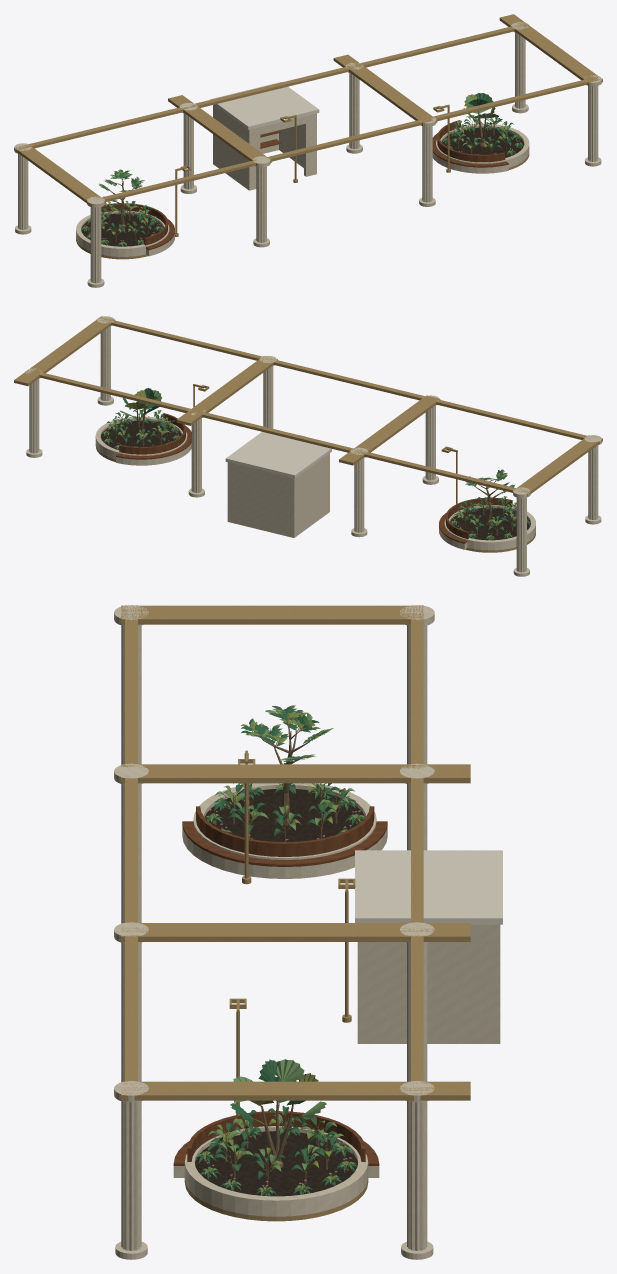
Rendered from G7_Completion_R007B_G7C7_D16_ForeGardenCourt.glb.
The picture shows the model from 3 angles, top to bottom: view 1: azimuth 30°, elevation 25°; view 2: azimuth 150°, elevation 25°; view 3: azimuth 270°, elevation 25°; orthographic projection. The views are drawn at different scales.
Parts seen in each view (by area): view 1: G7C7_D16_ForeGardenCourt_G7C7_stone_solid_frame, G7C7_D16_ForeGardenCourt_G7C7_metal_solid_frame, G7C7_D16_ForeGardenCourt_G7C7_soil_solid_planter, G7C7_D16_ForeGardenCourt_G7C7_roof_solid_roof, G7C7_D16_ForeGardenCourt_G7C7_wood_solid_furniture, G7C7_D16_ForeGardenCourt_G7C7_stone_solid_planter, G7C7_D16_ForeGardenCourt_ASTRAEA_botanical_leaf_jade.001_vis, G7C7_D16_ForeGardenCourt_G7C7_metal_solid_fixture, G7C7_D16_ForeGardenCourt_G7C7_stone_solid_furniture, G7C7_D16_ForeGardenCourt_ASTRAEA_botanical_leaf_sage.001_vis, G7C7_D16_ForeGardenCourt_ASTRAEA_botanical_leaf_olive.001_vi, G7C7_D16_ForeGardenCourt_ASTRAEA_botanical_bark.001_visual_f; view 2: G7C7_D16_ForeGardenCourt_G7C7_stone_solid_frame, G7C7_D16_ForeGardenCourt_G7C7_metal_solid_frame, G7C7_D16_ForeGardenCourt_G7C7_roof_solid_roof, G7C7_D16_ForeGardenCourt_G7C7_soil_solid_planter, G7C7_D16_ForeGardenCourt_G7C7_wood_solid_furniture, G7C7_D16_ForeGardenCourt_G7C7_stone_solid_planter, G7C7_D16_ForeGardenCourt_ASTRAEA_botanical_leaf_jade.001_vis, G7C7_D16_ForeGardenCourt_G7C7_stone_solid_furniture, G7C7_D16_ForeGardenCourt_ASTRAEA_botanical_leaf_sage.001_vis, G7C7_D16_ForeGardenCourt_ASTRAEA_botanical_leaf_olive.001_vi, G7C7_D16_ForeGardenCourt_ASTRAEA_botanical_bark.001_visual_f; view 3: G7C7_D16_ForeGardenCourt_G7C7_metal_solid_frame, G7C7_D16_ForeGardenCourt_G7C7_stone_solid_frame, G7C7_D16_ForeGardenCourt_G7C7_soil_solid_planter, G7C7_D16_ForeGardenCourt_G7C7_roof_solid_roof, G7C7_D16_ForeGardenCourt_G7C7_wood_solid_furniture, G7C7_D16_ForeGardenCourt_G7C7_stone_solid_planter, G7C7_D16_ForeGardenCourt_G7C7_stone_solid_furniture, G7C7_D16_ForeGardenCourt_ASTRAEA_botanical_leaf_jade.001_vis, G7C7_D16_ForeGardenCourt_G7C7_metal_solid_fixture, G7C7_D16_ForeGardenCourt_ASTRAEA_botanical_leaf_sage.001_vis, G7C7_D16_ForeGardenCourt_ASTRAEA_botanical_leaf_olive.001_vi, G7C7_D16_ForeGardenCourt_ASTRAEA_botanical_leaf_jade.002_vis (+5 smaller).
Part boxes in pixels (x1,y1,x2,y2): G7C7_D16_ForeGardenCourt_G7C7_stone_solid_frame: (14,22,601,287); G7C7_D16_ForeGardenCourt_G7C7_metal_solid_frame: (14,14,602,206); G7C7_D16_ForeGardenCourt_G7C7_soil_solid_planter: (81,127,524,246); G7C7_D16_ForeGardenCourt_G7C7_roof_solid_roof: (210,82,319,129); G7C7_D16_ForeGardenCourt_G7C7_wood_solid_furniture: (101,120,508,250); G7C7_D16_ForeGardenCourt_G7C7_stone_solid_planter: (76,123,529,256); G7C7_D16_ForeGardenCourt_ASTRAEA_botanical_leaf_jade.001_vis: (101,117,515,234); G7C7_D16_ForeGardenCourt_G7C7_metal_solid_fixture: (175,104,450,236); G7C7_D16_ForeGardenCourt_G7C7_stone_solid_furniture: (146,152,508,256); G7C7_D16_ForeGardenCourt_ASTRAEA_botanical_leaf_sage.001_vis: (101,116,510,231); G7C7_D16_ForeGardenCourt_ASTRAEA_botanical_leaf_olive.001_vi: (101,115,510,234); G7C7_D16_ForeGardenCourt_ASTRAEA_botanical_bark.001_visual_f: (101,120,507,241); G7C7_D16_ForeGardenCourt_G7C7_stone_solid_frame: (25,316,601,576); G7C7_D16_ForeGardenCourt_G7C7_metal_solid_frame: (14,316,602,496); G7C7_D16_ForeGardenCourt_G7C7_roof_solid_roof: (225,432,331,478); G7C7_D16_ForeGardenCourt_G7C7_soil_solid_planter: (100,420,530,540); G7C7_D16_ForeGardenCourt_G7C7_wood_solid_furniture: (116,413,515,543); G7C7_D16_ForeGardenCourt_G7C7_stone_solid_planter: (95,416,535,550); G7C7_D16_ForeGardenCourt_ASTRAEA_botanical_leaf_jade.001_vis: (107,409,516,530); G7C7_D16_ForeGardenCourt_G7C7_stone_solid_furniture: (116,443,515,549); G7C7_D16_ForeGardenCourt_ASTRAEA_botanical_leaf_sage.001_vis: (108,409,516,524); G7C7_D16_ForeGardenCourt_ASTRAEA_botanical_leaf_olive.001_vi: (108,408,516,529); G7C7_D16_ForeGardenCourt_ASTRAEA_botanical_bark.001_visual_f: (114,413,515,535); G7C7_D16_ForeGardenCourt_G7C7_metal_solid_frame: (121,605,470,1100); G7C7_D16_ForeGardenCourt_G7C7_stone_solid_frame: (114,605,500,1259); G7C7_D16_ForeGardenCourt_G7C7_soil_solid_planter: (195,788,365,1196); G7C7_D16_ForeGardenCourt_G7C7_roof_solid_roof: (355,850,502,924); G7C7_D16_ForeGardenCourt_G7C7_wood_solid_furniture: (173,806,387,1165); G7C7_D16_ForeGardenCourt_G7C7_stone_solid_planter: (184,783,376,1216); G7C7_D16_ForeGardenCourt_G7C7_stone_solid_furniture: (173,825,387,1177); G7C7_D16_ForeGardenCourt_ASTRAEA_botanical_leaf_jade.001_vis: (208,763,355,1179); G7C7_D16_ForeGardenCourt_G7C7_metal_solid_fixture: (229,750,355,1114); G7C7_D16_ForeGardenCourt_ASTRAEA_botanical_leaf_sage.001_vis: (208,783,354,1171); G7C7_D16_ForeGardenCourt_ASTRAEA_botanical_leaf_olive.001_vi: (211,783,354,1175); G7C7_D16_ForeGardenCourt_ASTRAEA_botanical_leaf_jade.002_vis: (195,785,364,1196).
Size of the model in its own units: 27.22 by 4.26 by 9.12.
23 materials, 22 textured.
